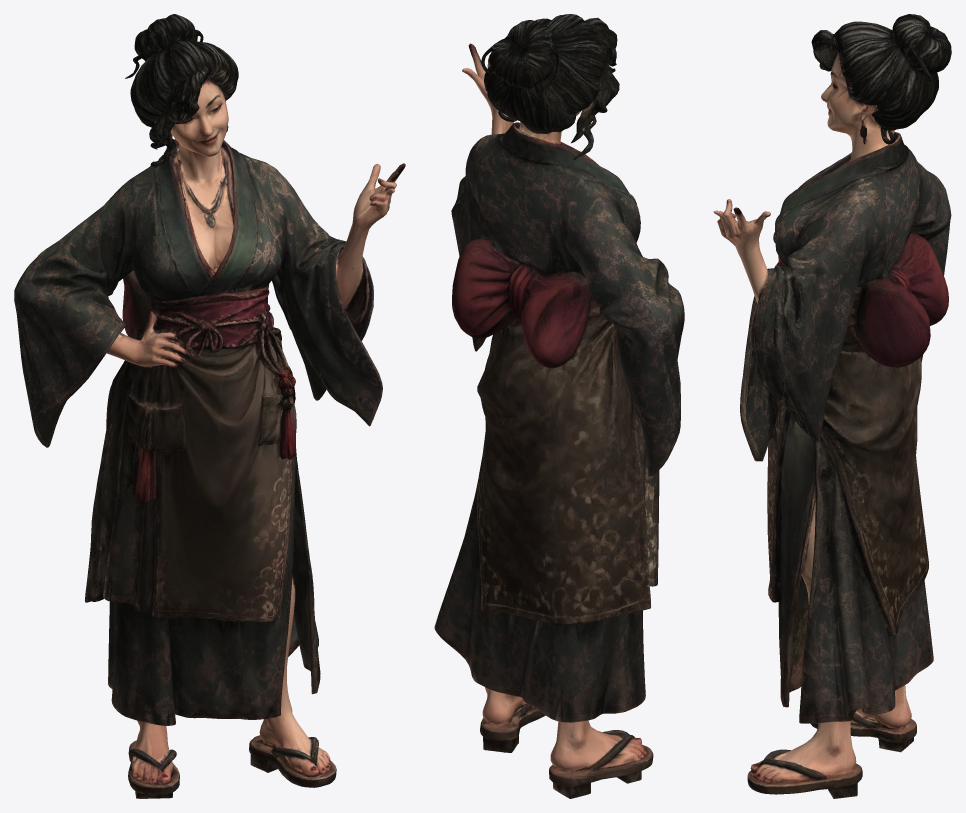
Rendered from cai_ma.glb.
3 views of the same model, side by side, from view 1: azimuth 30°, elevation 25°; view 2: azimuth 150°, elevation 25°; view 3: azimuth 270°, elevation 25° (orthographic). The views are drawn at different scales.
Bounding box in the file's own units: 0.7858 × 1.9 × 0.5512.
Materials: 1 (1 with a texture image).
